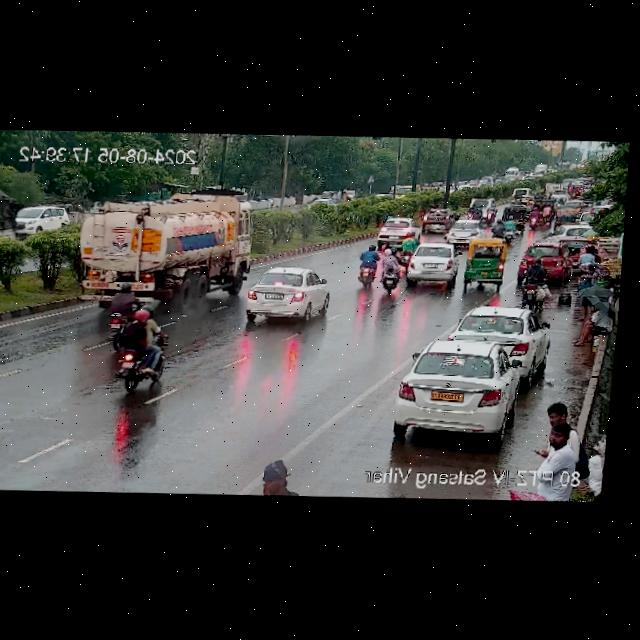car: (387, 337, 539, 442), (441, 304, 550, 371), (236, 264, 335, 318), (455, 236, 511, 288), (398, 240, 457, 285), (536, 221, 612, 254), (7, 203, 75, 239), (515, 240, 573, 282), (369, 217, 422, 243), (443, 218, 491, 243), (461, 196, 497, 221), (415, 209, 452, 233), (501, 201, 527, 229), (554, 203, 579, 228), (506, 186, 533, 205), (322, 190, 334, 197)
motorcycle: (105, 298, 170, 391), (97, 286, 156, 333), (374, 245, 406, 291), (520, 255, 548, 305), (350, 243, 380, 286), (490, 213, 519, 240), (529, 202, 552, 229)
person: (568, 290, 615, 348), (533, 399, 579, 457), (567, 272, 615, 324), (246, 458, 291, 496), (583, 439, 606, 488), (570, 245, 600, 277)
truck: (66, 192, 255, 309)
